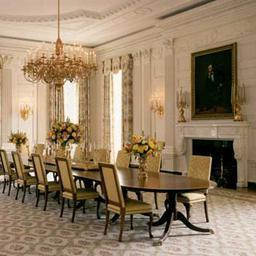Ventana: (56, 74, 86, 148), (111, 71, 124, 154)
